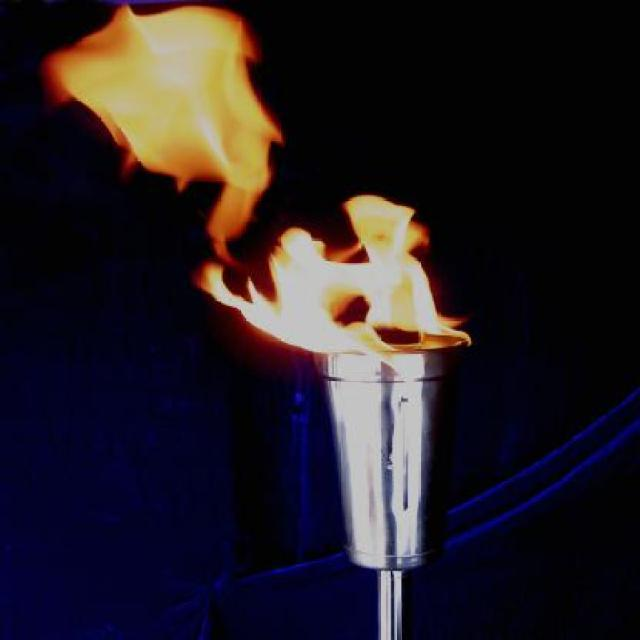Fire: (34, 0, 470, 353)
